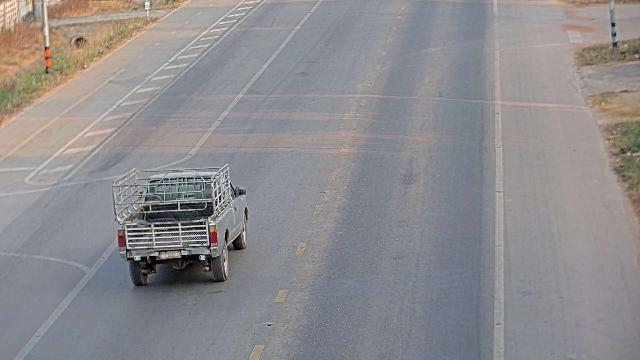pickup-truck: (111, 163, 250, 286)
